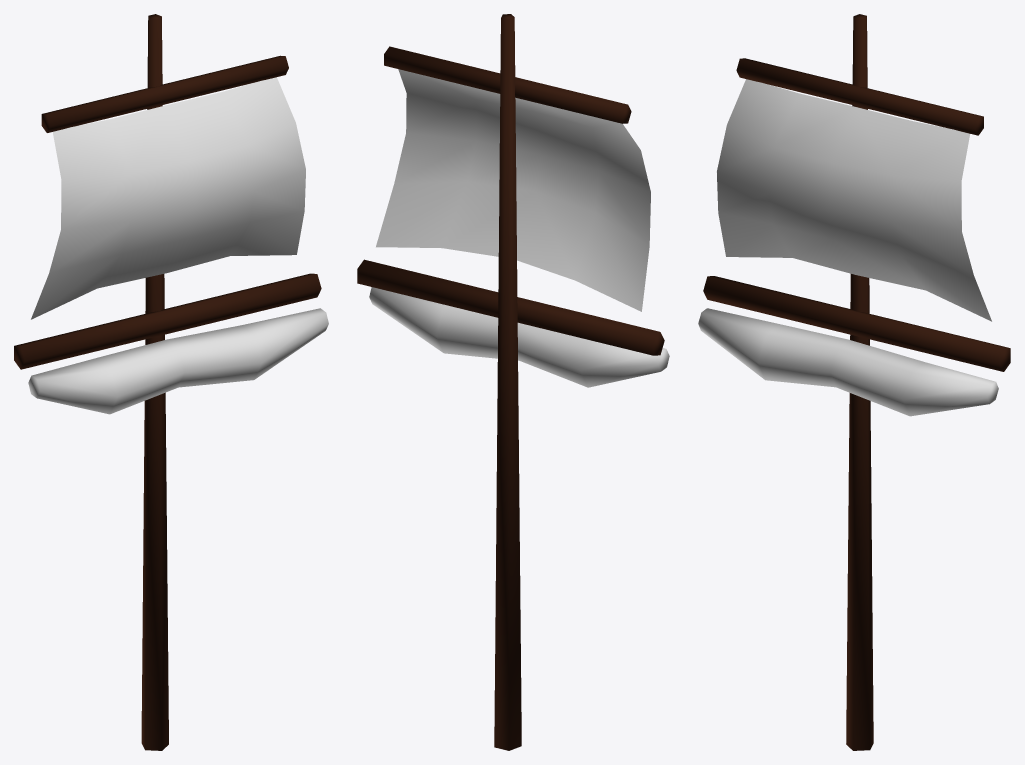
The model's file is mizzenmast-half.obj.
3 renders of one model, left to right at view 1: azimuth 30°, elevation 25°; view 2: azimuth 150°, elevation 25°; view 3: azimuth 330°, elevation 25°, orthographic.
Parts seen in each view (by area): view 1: Plane.012_Plane.001_SailCloth, Cylinder.071_Cylinder.011_SailCloth, Cylinder.068_Cylinder_Wood, Cylinder.069_Cylinder.001_Wood, Cylinder.070_Cylinder.001_Wood; view 2: Plane.012_Plane.001_SailCloth, Cylinder.068_Cylinder_Wood, Cylinder.071_Cylinder.011_SailCloth, Cylinder.069_Cylinder.001_Wood, Cylinder.070_Cylinder.001_Wood; view 3: Plane.012_Plane.001_SailCloth, Cylinder.071_Cylinder.011_SailCloth, Cylinder.068_Cylinder_Wood, Cylinder.069_Cylinder.001_Wood, Cylinder.070_Cylinder.001_Wood.
Part boxes in pixels (x1,y1,x2,y2): Plane.012_Plane.001_SailCloth: (31,77,305,319); Cylinder.071_Cylinder.011_SailCloth: (28,308,328,414); Cylinder.068_Cylinder_Wood: (141,14,168,750); Cylinder.069_Cylinder.001_Wood: (14,273,321,369); Cylinder.070_Cylinder.001_Wood: (41,55,288,132); Plane.012_Plane.001_SailCloth: (376,69,650,311); Cylinder.068_Cylinder_Wood: (494,14,521,750); Cylinder.071_Cylinder.011_SailCloth: (369,287,669,387); Cylinder.069_Cylinder.001_Wood: (357,259,664,355); Cylinder.070_Cylinder.001_Wood: (384,46,631,123); Plane.012_Plane.001_SailCloth: (717,79,991,321); Cylinder.071_Cylinder.011_SailCloth: (698,308,998,416); Cylinder.068_Cylinder_Wood: (846,14,873,750); Cylinder.069_Cylinder.001_Wood: (703,276,1010,371); Cylinder.070_Cylinder.001_Wood: (736,58,983,135).
Size of the model in its own units: 1.62 by 3.8 by 0.3939.
